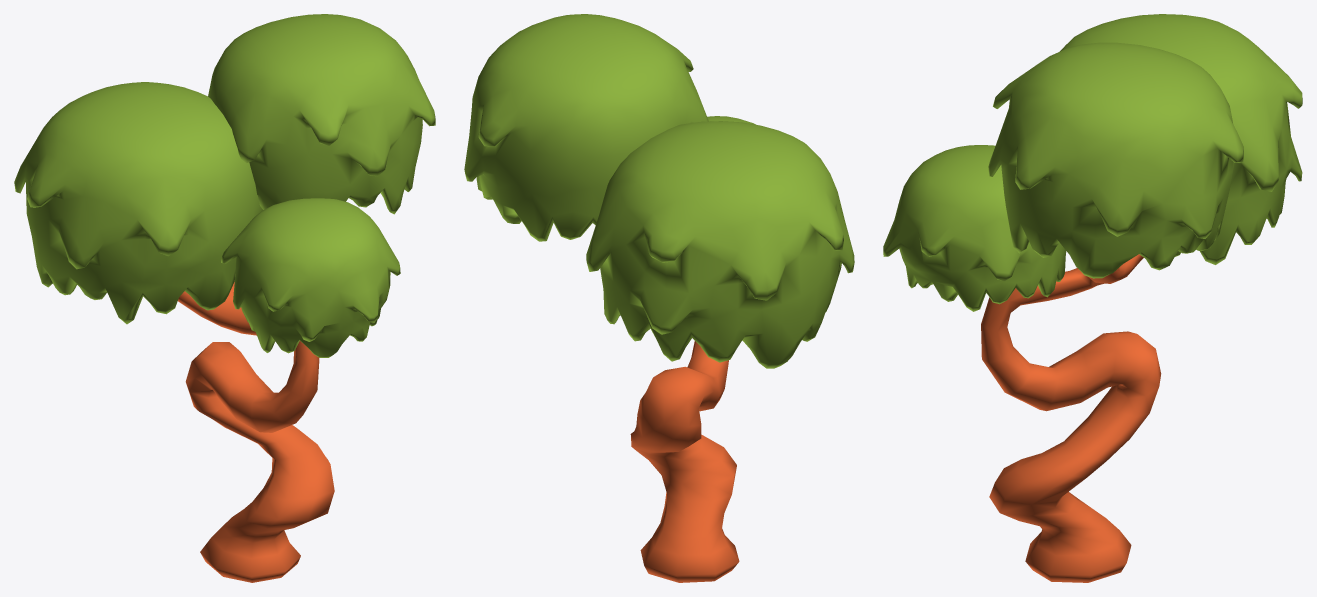
File: Tree.fbx
The picture shows the model from 3 angles, left to right: view 1: azimuth 30°, elevation 25°; view 2: azimuth 150°, elevation 25°; view 3: azimuth 270°, elevation 25°; orthographic projection. The views are drawn at different scales.
Parts seen in each view (by area): view 1: Cube.175; view 2: Cube.175; view 3: Cube.175.
Part boxes in pixels (x1,y1,x2,y2): Cube.175: [14, 14, 435, 582]; Cube.175: [464, 14, 854, 582]; Cube.175: [883, 14, 1302, 582].
Size of the model in its own units: 518 by 683 by 470.
